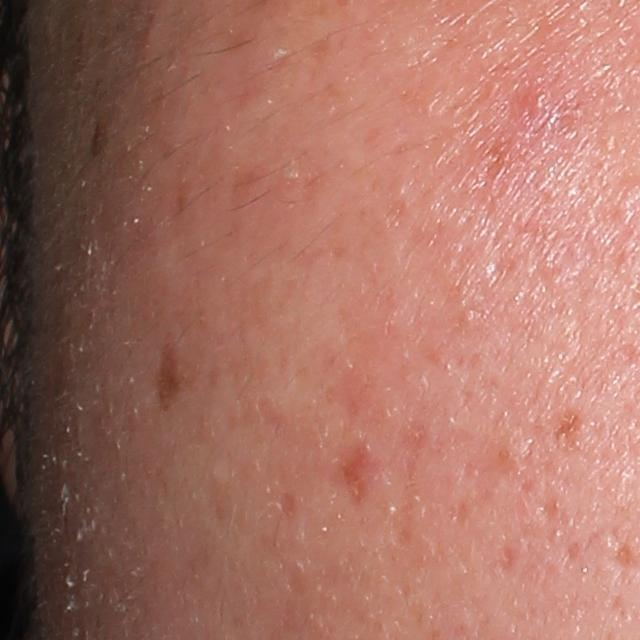atrophic_scar: (332, 441, 370, 511), (276, 488, 302, 524)
